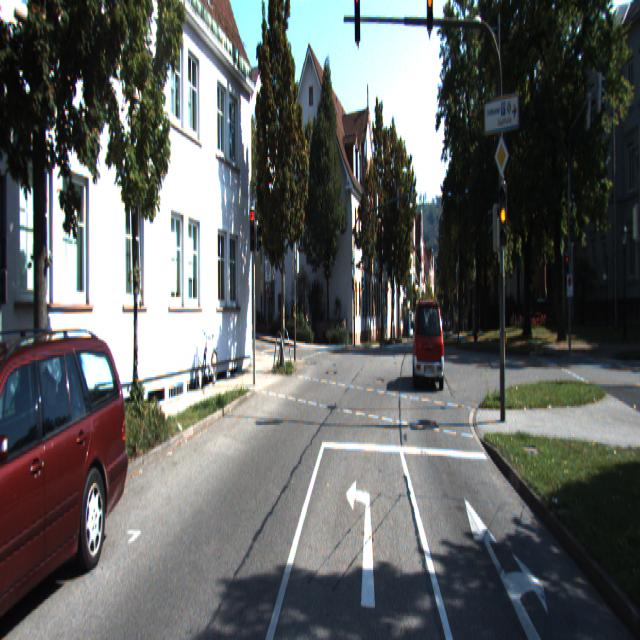Car: (0, 334, 133, 639), (414, 300, 446, 389)
